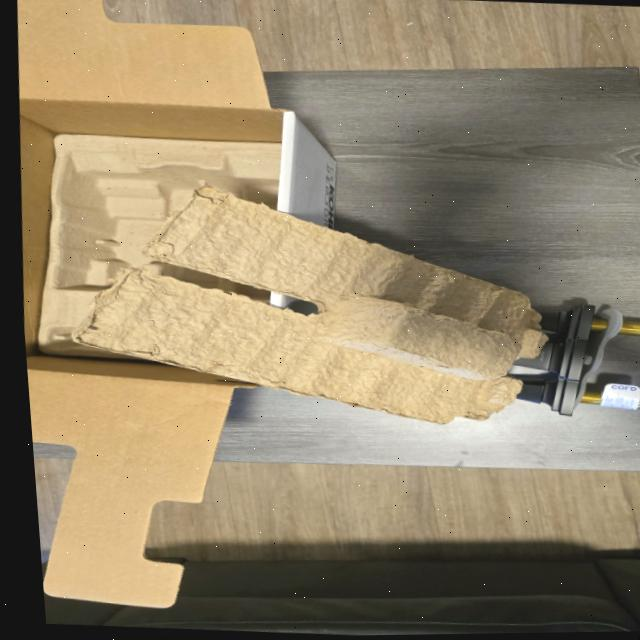9o: (509, 305, 640, 416)
